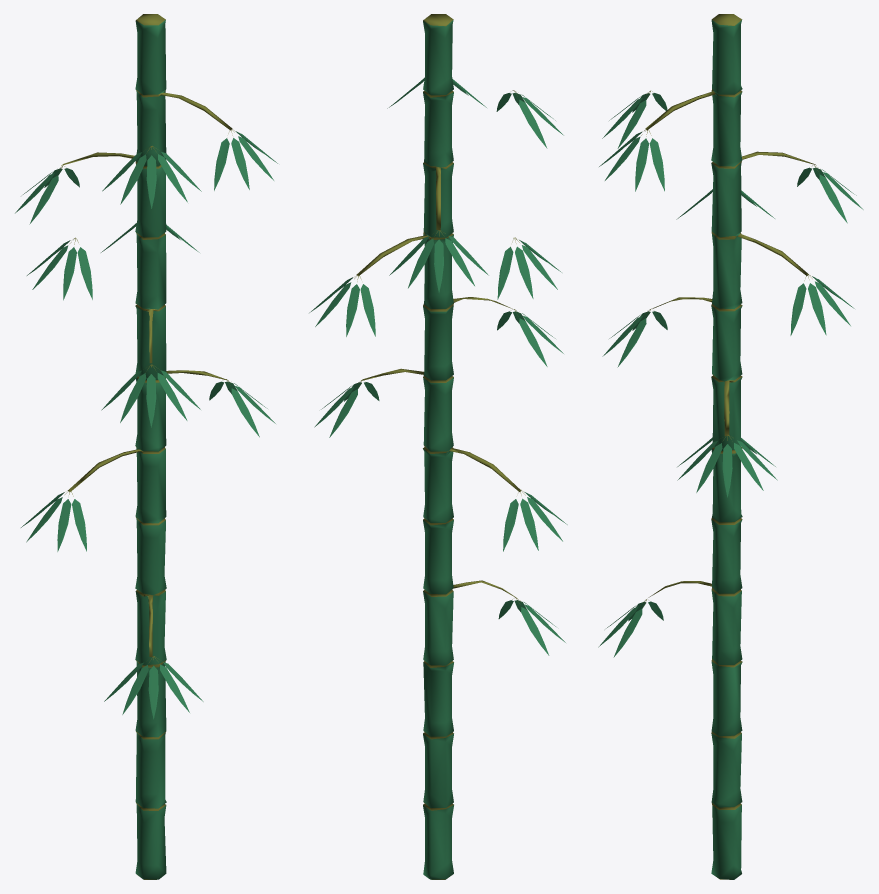
File: bamboo.obj
3 views of the same model, side by side, from view 1: azimuth 30°, elevation 25°; view 2: azimuth 150°, elevation 25°; view 3: azimuth 270°, elevation 25° (orthographic).
Visible parts, largest first — view 1: bamboo1.003; view 2: bamboo1.003; view 3: bamboo1.003.
Boxes of the visible parts, <box> form: bamboo1.003: <box>15,14,277,879</box>; bamboo1.003: <box>309,14,567,879</box>; bamboo1.003: <box>598,14,863,879</box>.
Size of the model in its own units: 1.8 by 6 by 1.7.
